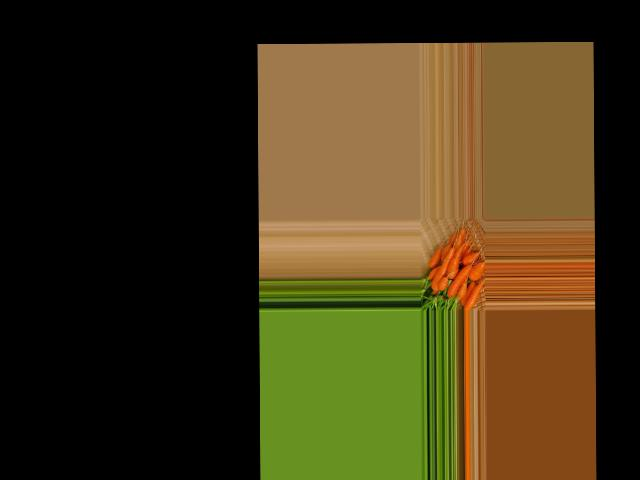carrot: (425, 263, 440, 277)
